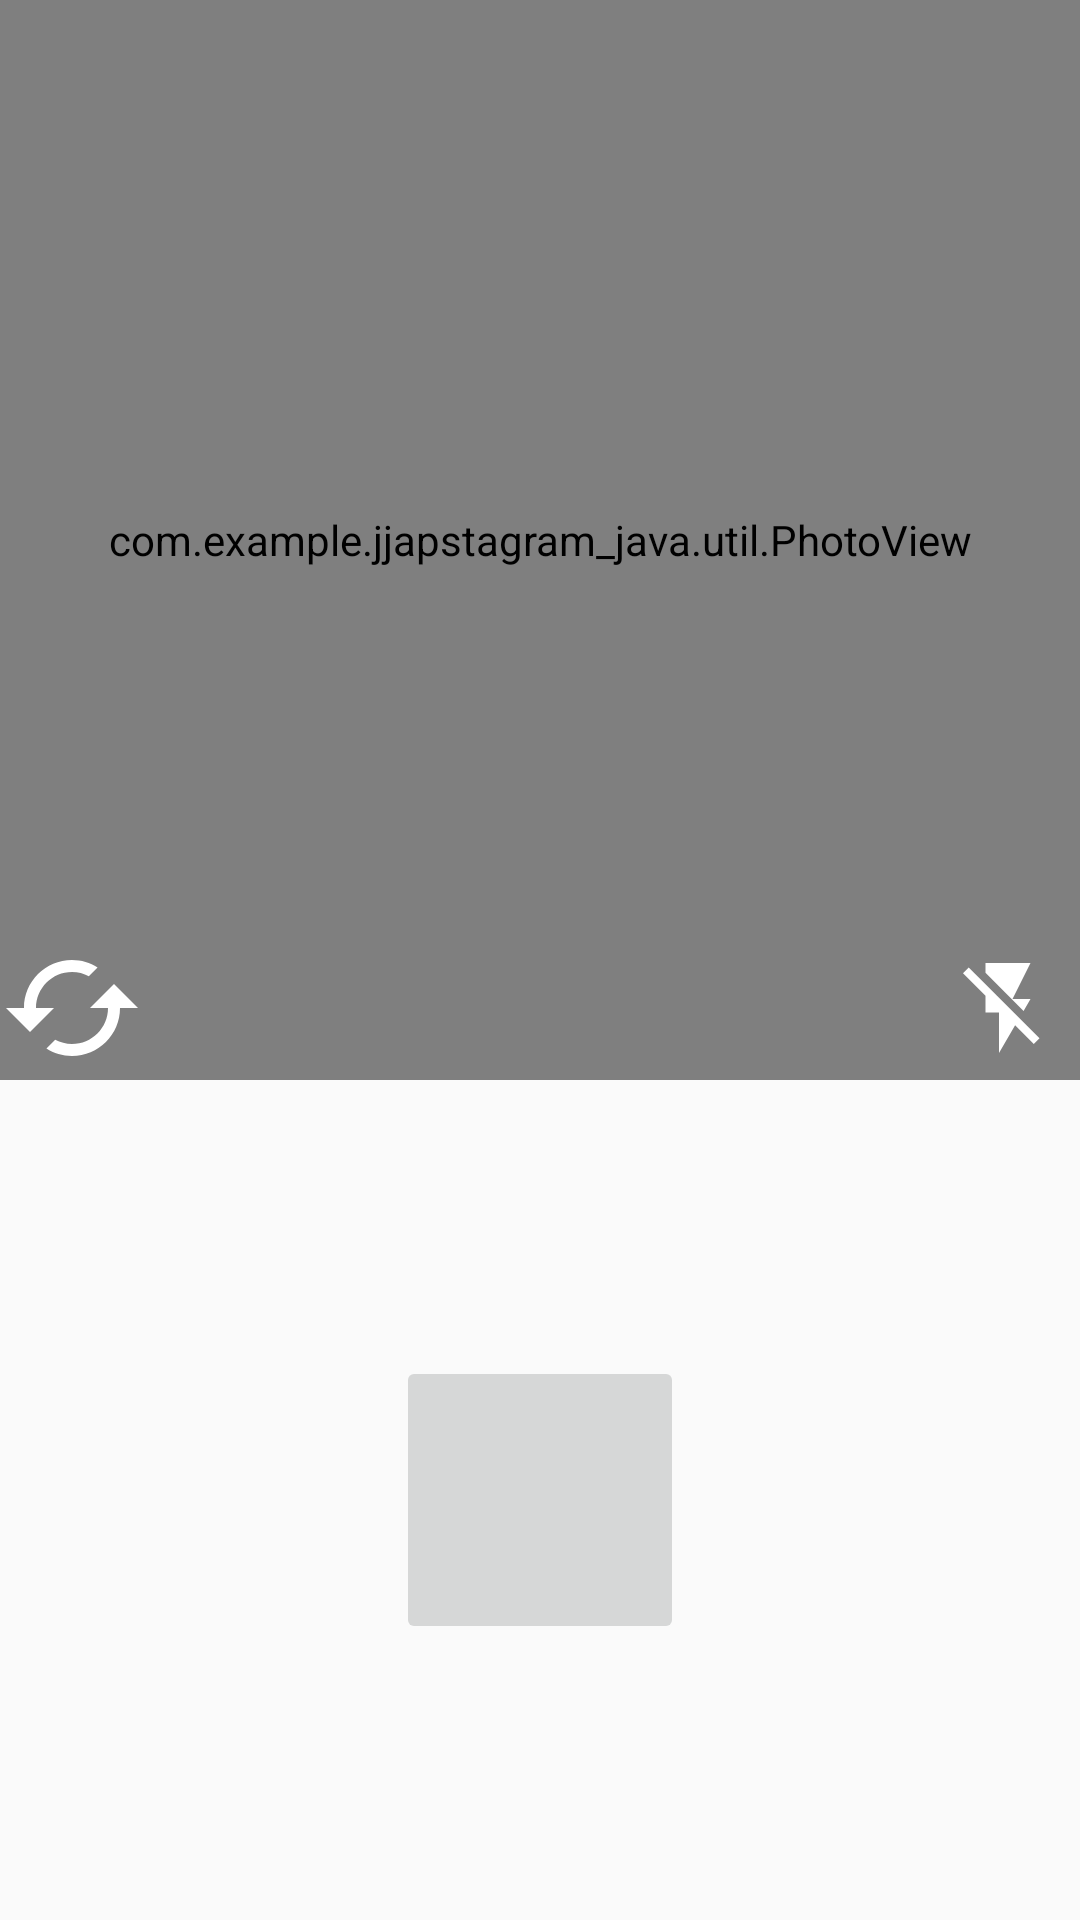

Where icons sit on this 1080 x 1920 app screen, as bbox=(x1, y1, x2, y2):
flash off: bbox=(963, 963, 1040, 1053)
switch camera: bbox=(6, 960, 138, 1056)
